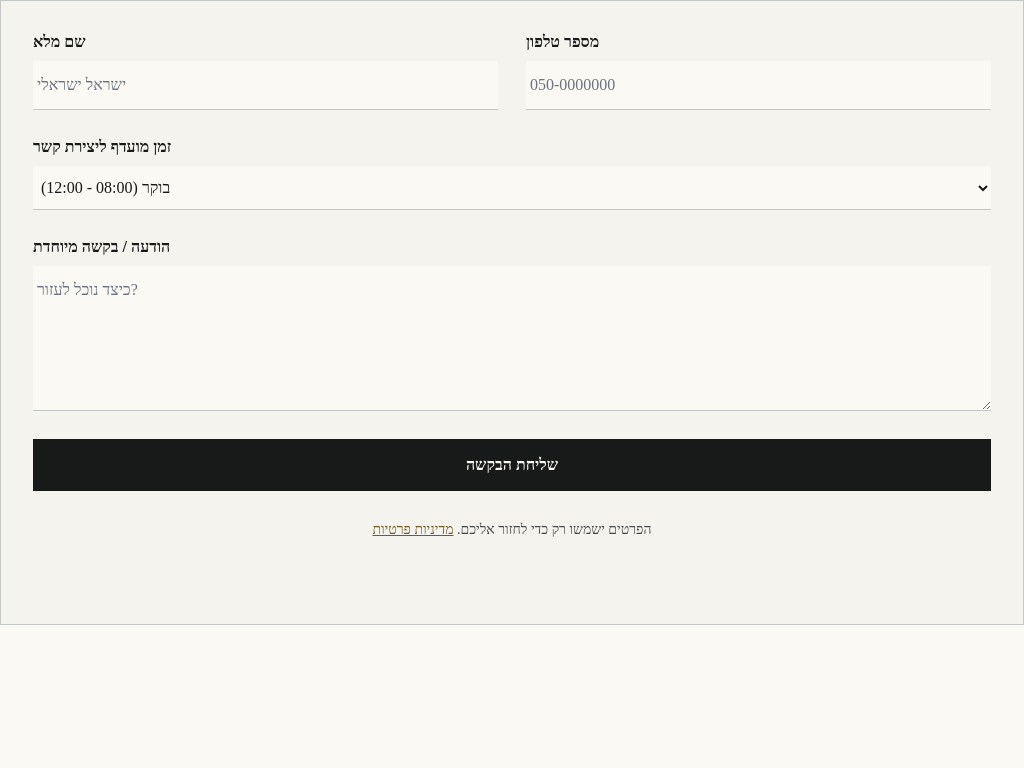
Scenario: ContactForm › blocks an empty inquiry with an actionable validation message
Click the button "שליחת הבקשה".
click(512, 465)  # box x1=33 y1=439 x2=991 y2=491
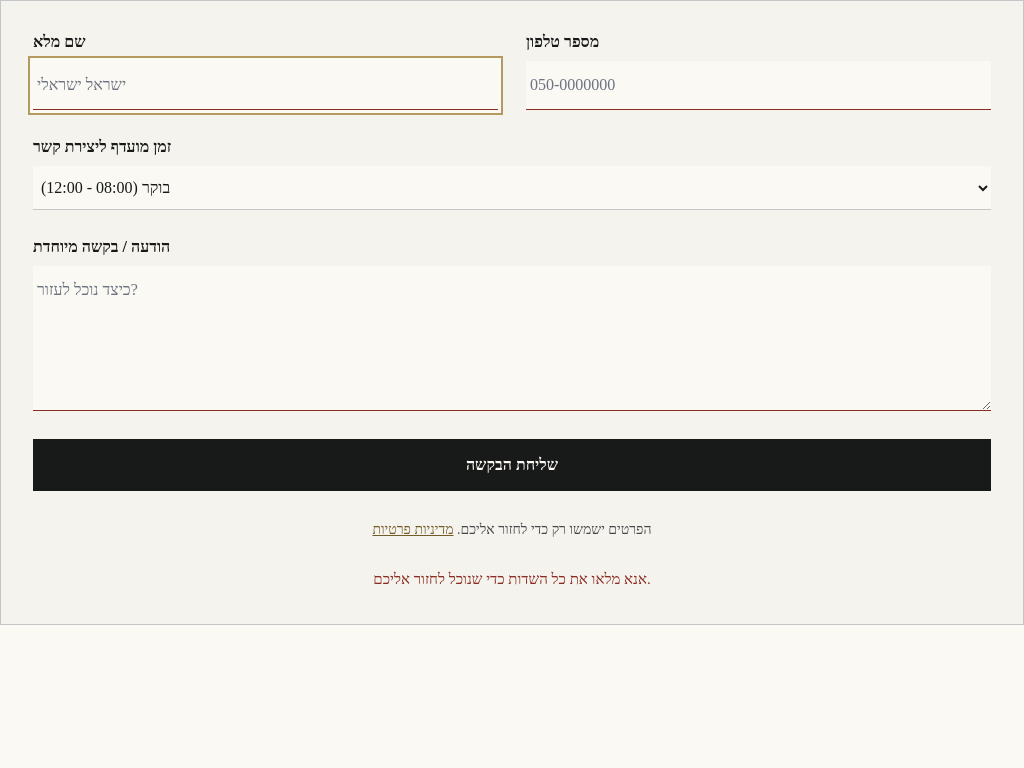
expect the message reads "אנא מלאו את כל השדות כדי שנוכל לחזור אליכם.": met, box x1=373 y1=571 x2=651 y2=587
